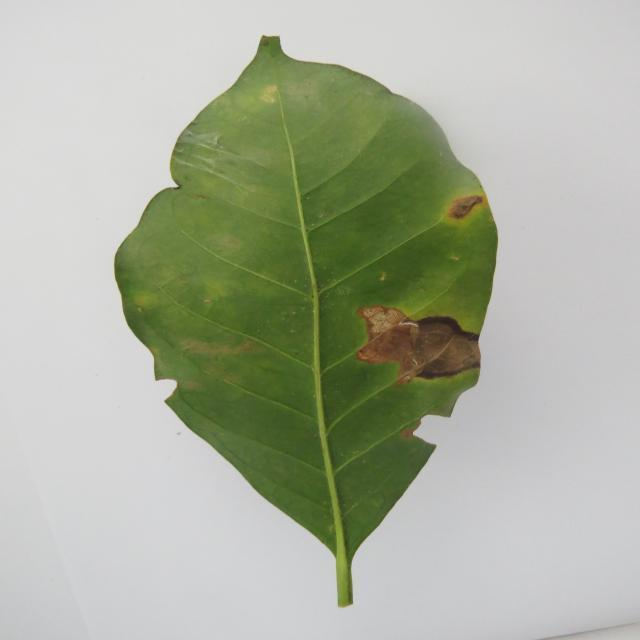DeficienciaNutricional-Potasio: (115, 36, 497, 606)
